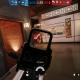Friend_label: (2, 44, 8, 46), (0, 49, 3, 52)
